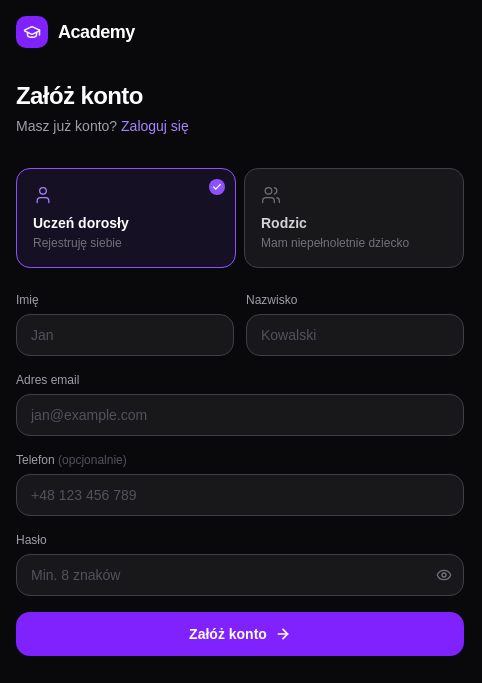
Test: RegisterPage › shows parent info box when parent type is selected
Click the button "Rodzic Mam niepełnoletnie dziecko": click(354, 218) [244,168,464,268]
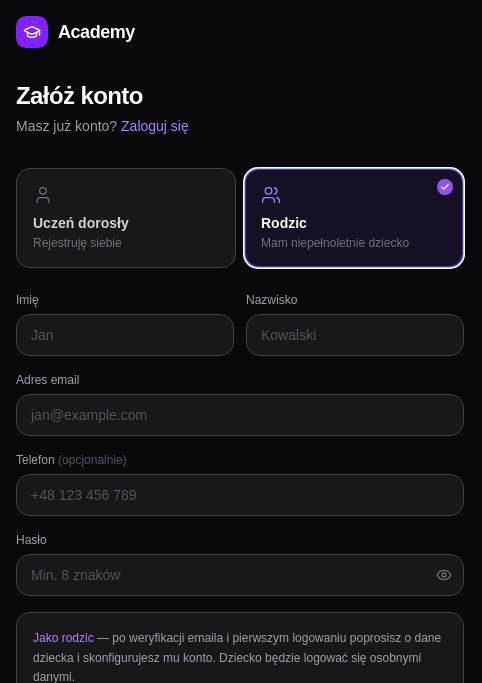
Now the text "Jako rodzic" is shown, box [33,631,94,645]
